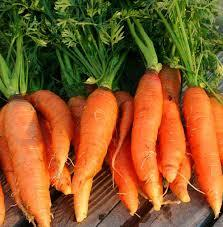Organic: (1, 1, 223, 227)
